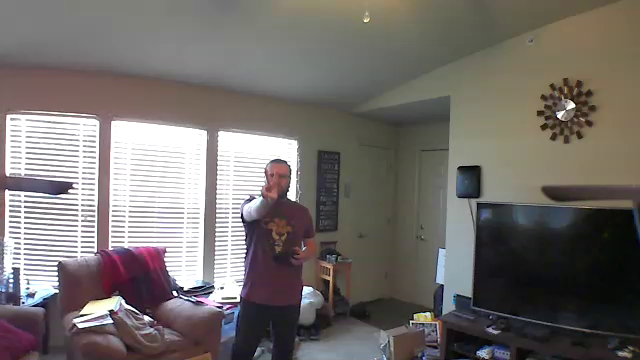peace: (257, 165, 283, 204)
